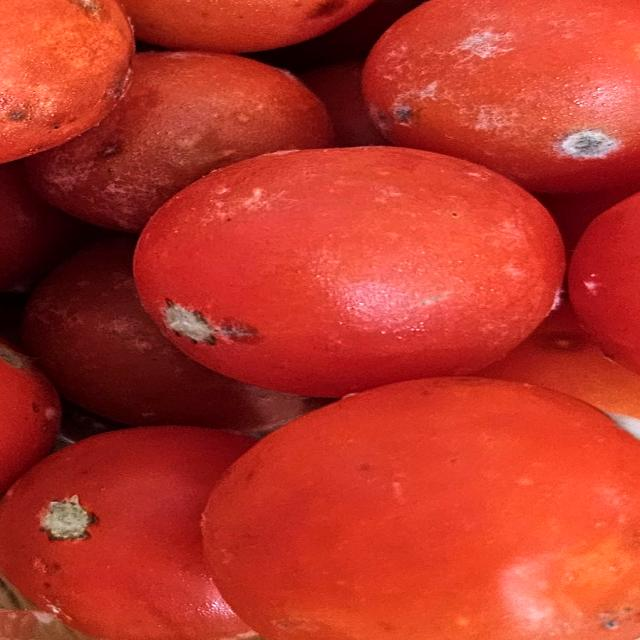rot_lvl2: (161, 300, 222, 347), (554, 127, 620, 161), (97, 133, 127, 162)
